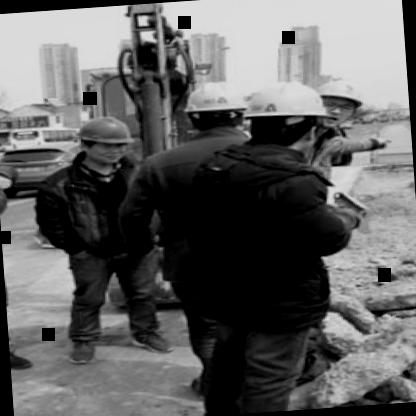helmet: (241, 77, 329, 148), (180, 71, 254, 144), (71, 108, 139, 168), (312, 70, 370, 128)
